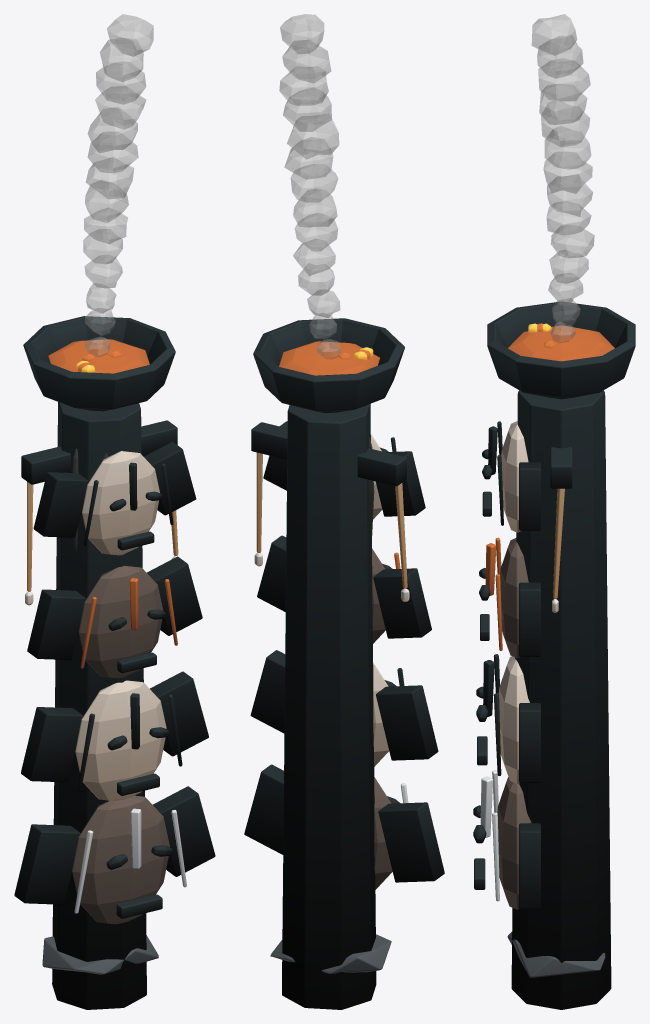
File: sootmask_totem.glb
3 views of the same model, side by side, from view 1: azimuth 30°, elevation 25°; view 2: azimuth 150°, elevation 25°; view 3: azimuth 270°, elevation 25° (orthographic). The views are drawn at different scales.
Visible parts, largest first — view 1: sootmask_totem; view 2: sootmask_totem; view 3: sootmask_totem.
Boxes of the visible parts, x1,y1,x2,y2 form: sootmask_totem: (14,14,215,1009); sootmask_totem: (244,14,444,1009); sootmask_totem: (473,14,635,1009).
Size of the model in its own units: 1.43 by 6.92 by 1.03.
Materials: 4 (4 with a texture image).
